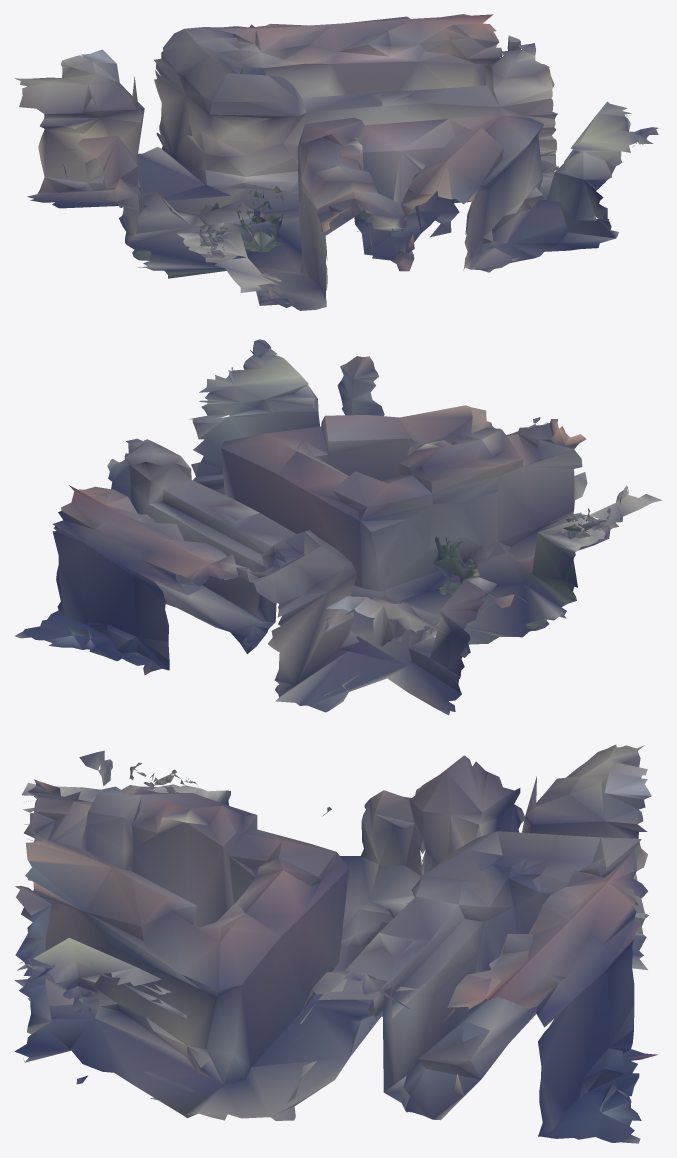
The picture shows the model from 3 angles, top to bottom: view 1: azimuth 30°, elevation 25°; view 2: azimuth 150°, elevation 25°; view 3: azimuth 270°, elevation 25°; orthographic projection. The views are drawn at different scales.
Bounding box in the file's own units: 108 × 33.3 × 109.
